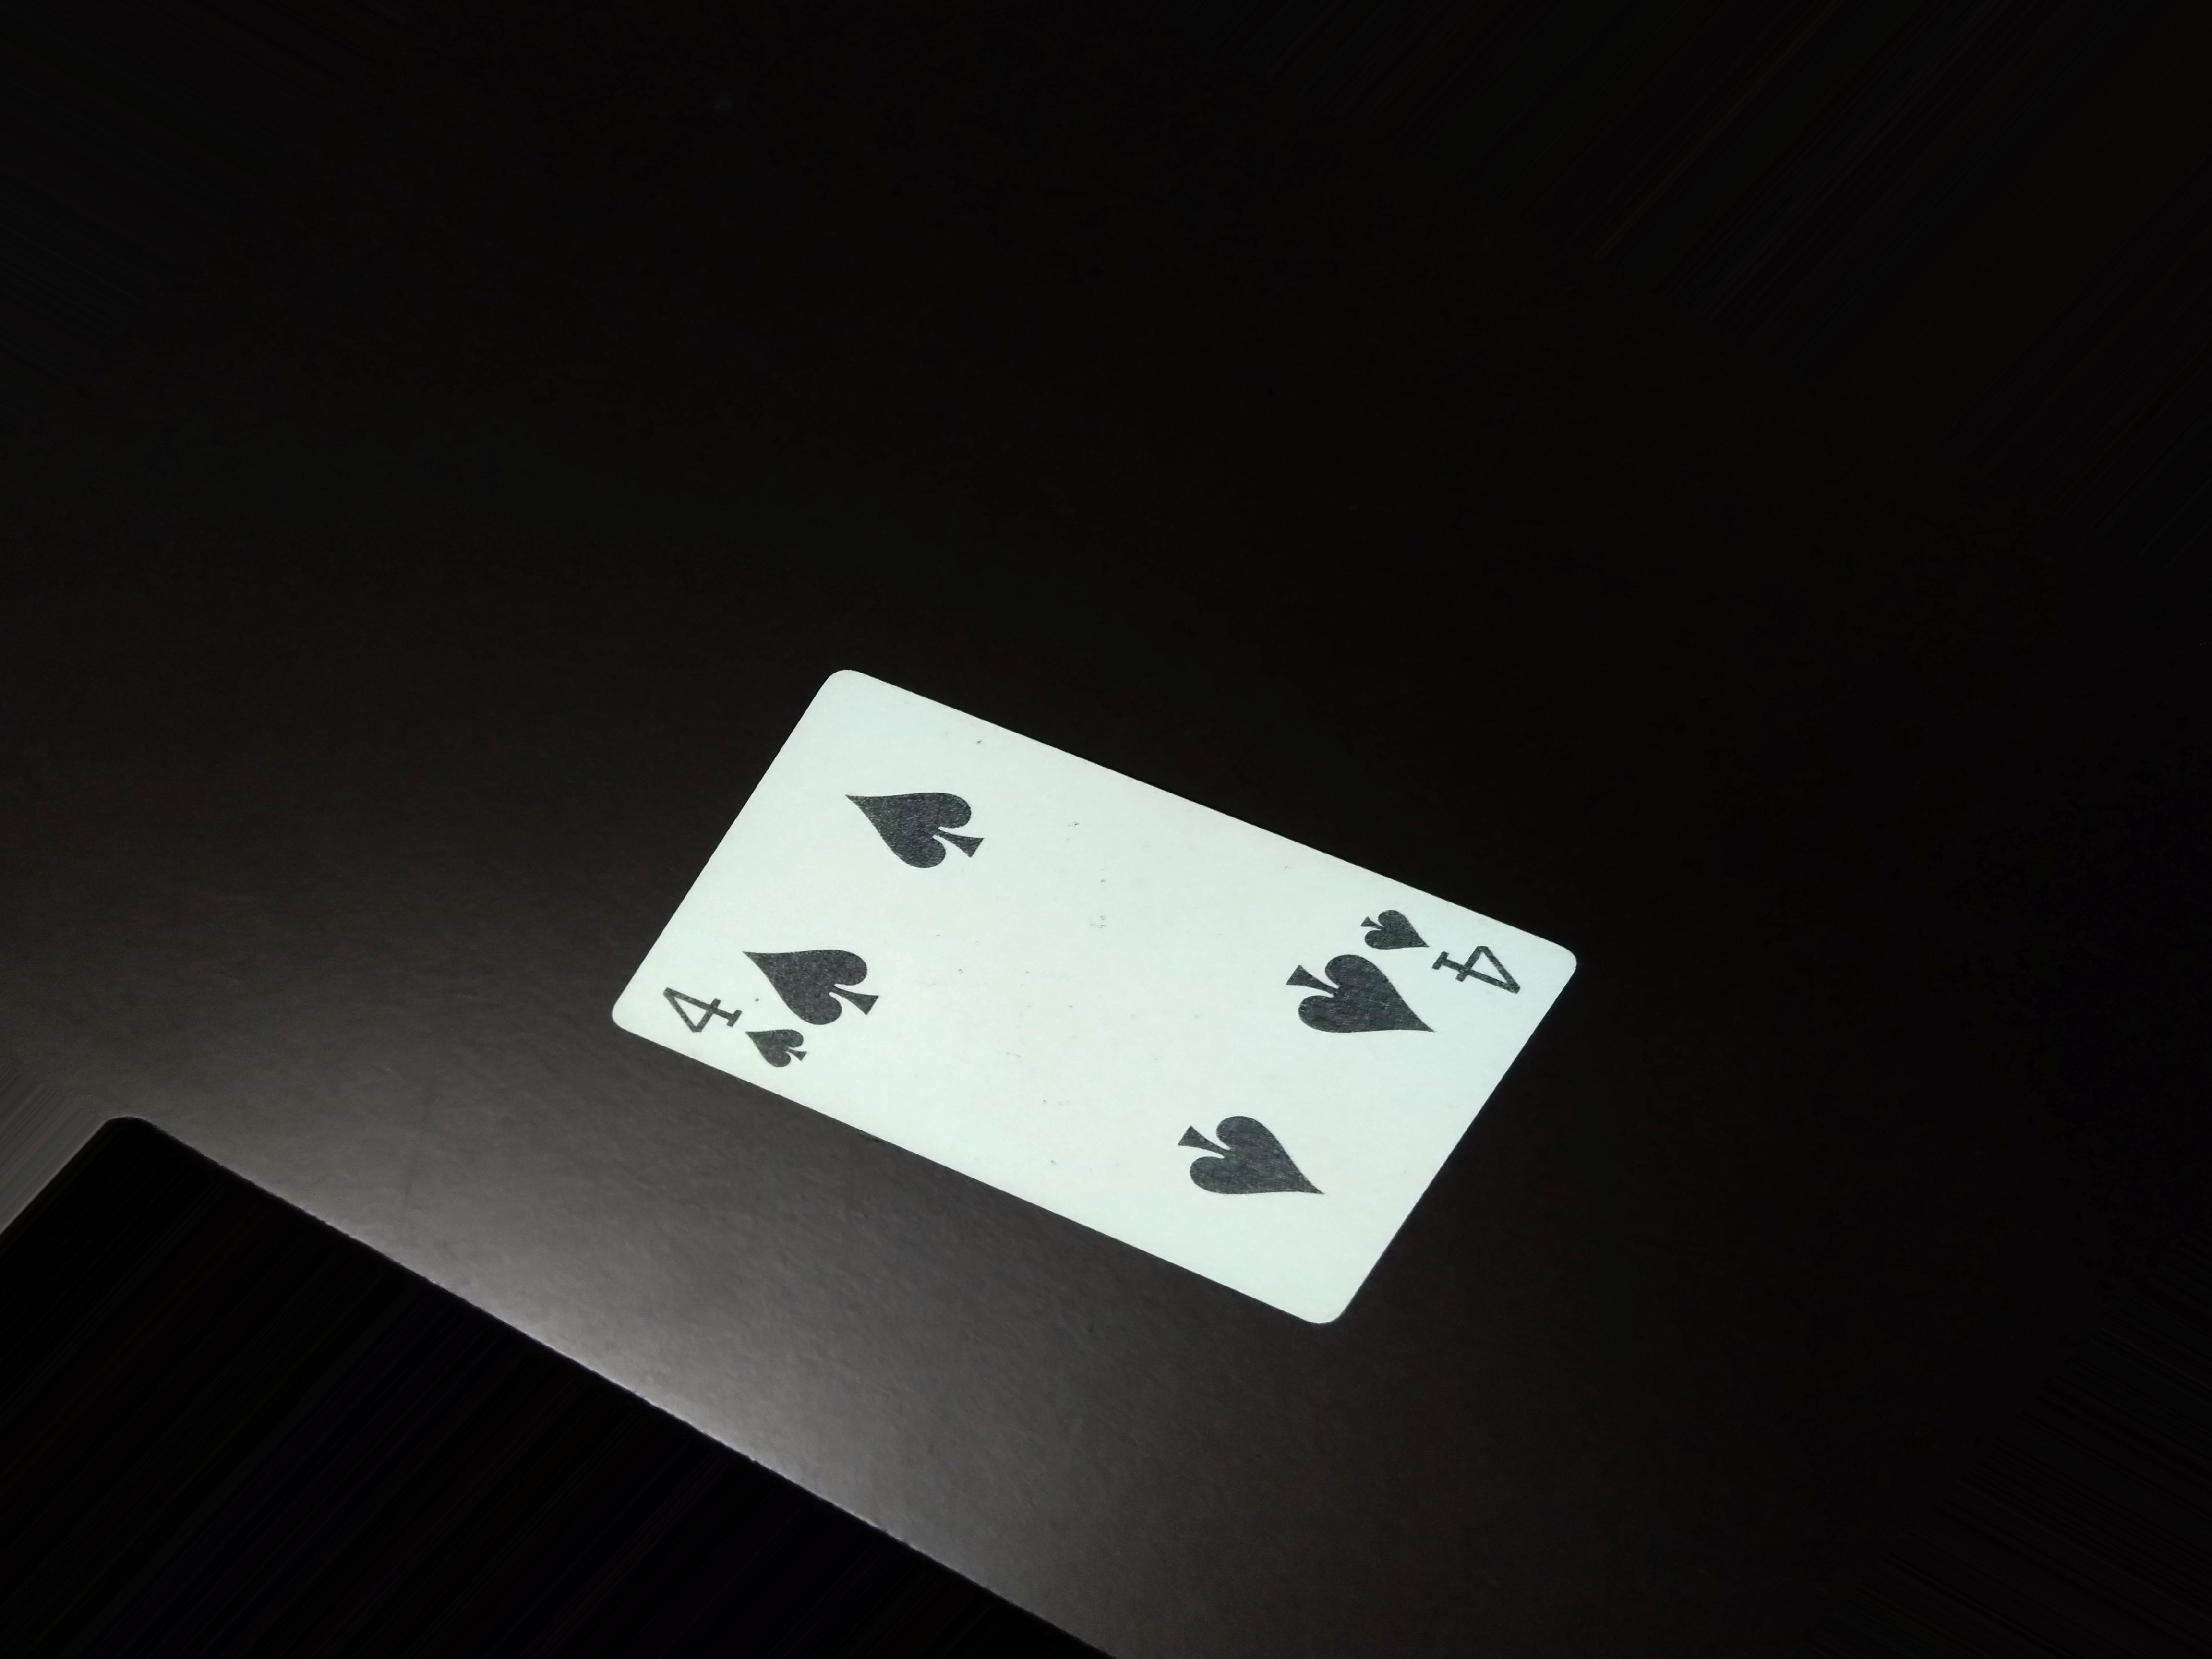4S: (651, 972, 822, 1080)
